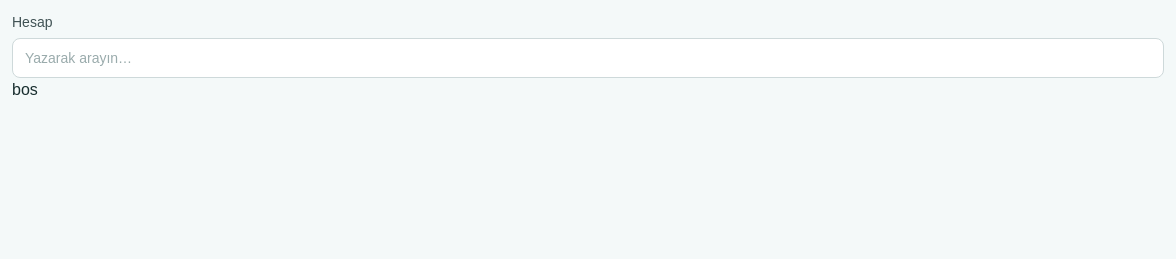
aranabilir seçici — sunucu kipi › kaç kayıt daha var — SUNUCUNUN saydığı toplamdan
The image size is (1176, 259).
In the dropdown labelled "Hesap": (588, 58) [12,38,1164,78], type "770"
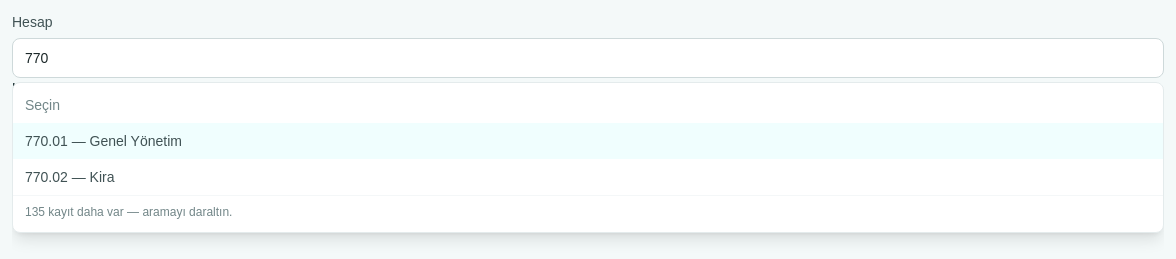
Expected: the list item "135 kayıt daha var — aramayı daraltın." is shown, [13,195,1163,228]
